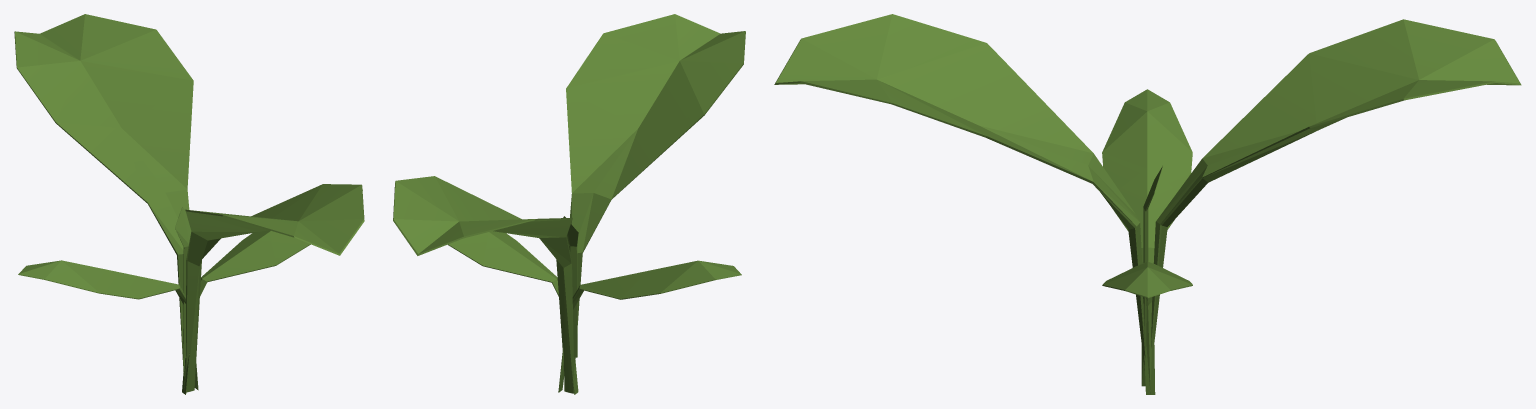
Rendered from Crop_Cabbage_STAGE_1_01.obj.
The picture shows the model from 3 angles, left to right: view 1: azimuth 30°, elevation 25°; view 2: azimuth 150°, elevation 25°; view 3: azimuth 270°, elevation 25°; orthographic projection. The views are drawn at different scales.
Visible parts, largest first — view 1: Crop_Cabbage_STAGE_1_01; view 2: Crop_Cabbage_STAGE_1_01; view 3: Crop_Cabbage_STAGE_1_01.
Part boxes in pixels (x1,y1,x2,y2): Crop_Cabbage_STAGE_1_01: (14, 14, 364, 394); Crop_Cabbage_STAGE_1_01: (393, 14, 745, 394); Crop_Cabbage_STAGE_1_01: (774, 14, 1521, 394).
Size of the model in its own units: 0.2362 by 0.1761 by 0.3577.
Materials: 1 (1 with a texture image).
